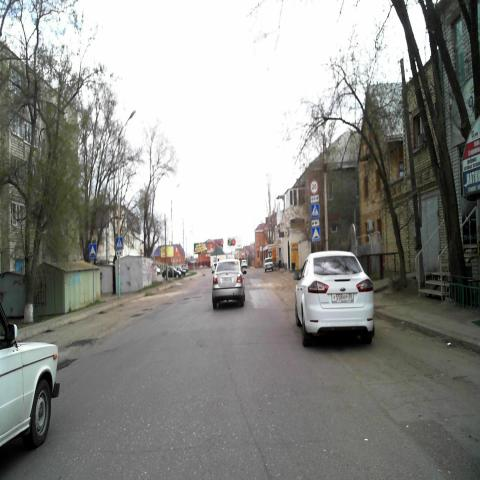3_24: (310, 180, 318, 194)
5_19_1: (310, 204, 318, 218), (116, 236, 123, 249)
5_20: (88, 243, 96, 258), (312, 228, 320, 241)
8_2_1: (310, 194, 319, 202)
